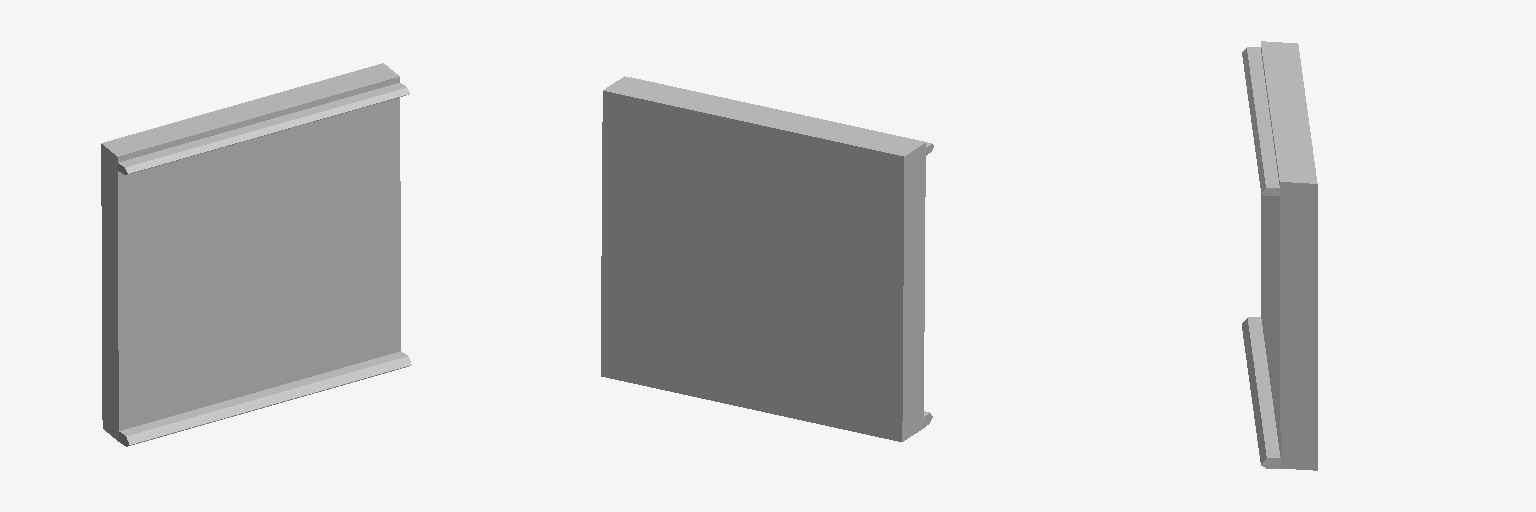
Rendered from Wall_Interior_Tipo_7.obj.
The picture shows the model from 3 angles: view 1: azimuth 30°, elevation 25°; view 2: azimuth 150°, elevation 25°; view 3: azimuth 270°, elevation 25°; orthographic projection.
Parts seen in each view (by area): view 1: Wall_2_Low; view 2: Wall_2_Low; view 3: Wall_2_Low.
Part boxes in pixels (left/top/right/bottom): Wall_2_Low: left=101, top=63, right=411, bottom=446; Wall_2_Low: left=601, top=76, right=933, bottom=441; Wall_2_Low: left=1242, top=41, right=1317, bottom=470.
Bounding box in the file's own units: 13.47 × 12.54 × 3.02.